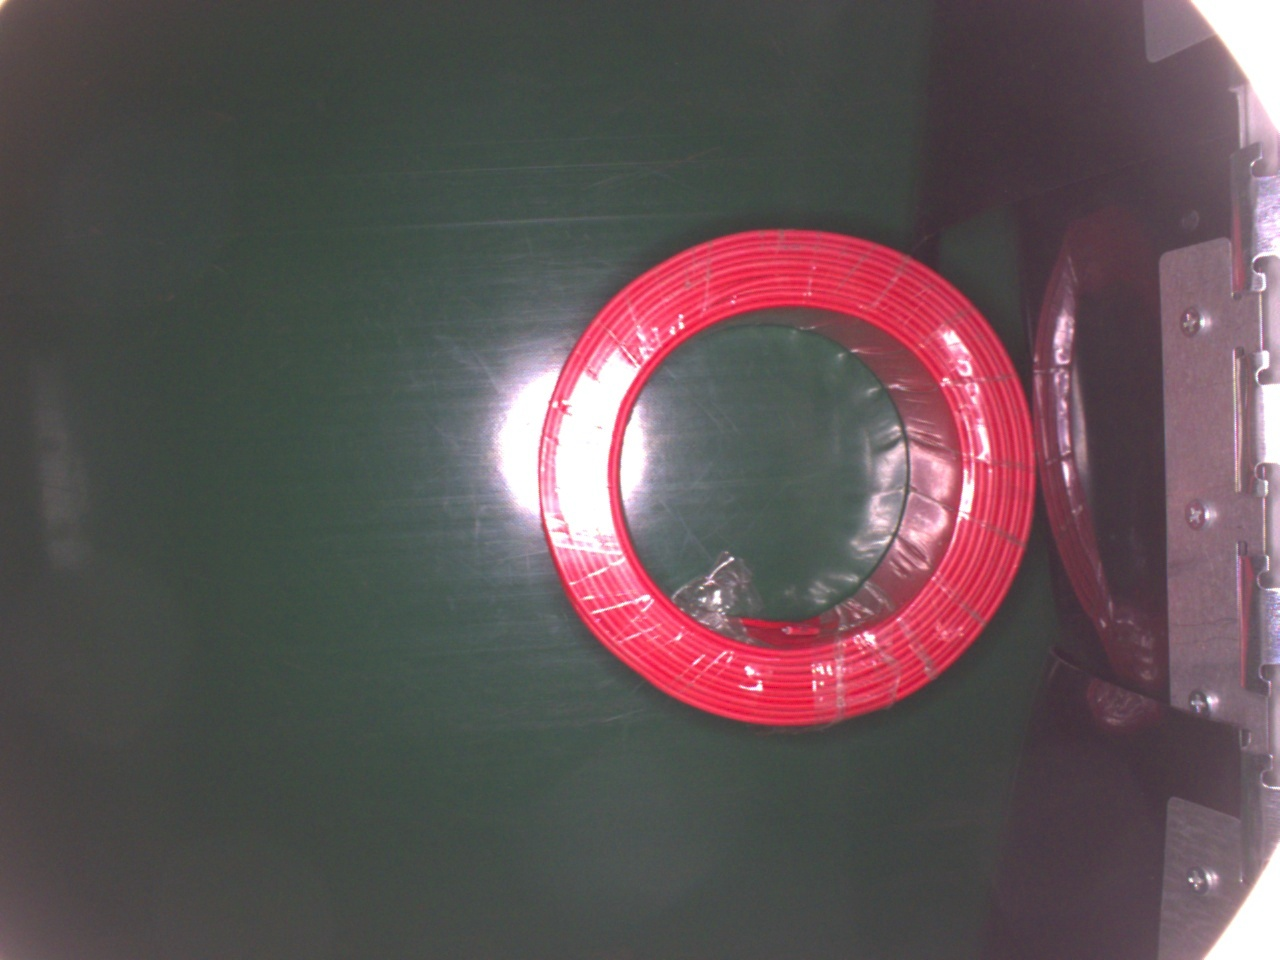red: (531, 224, 1041, 732)
